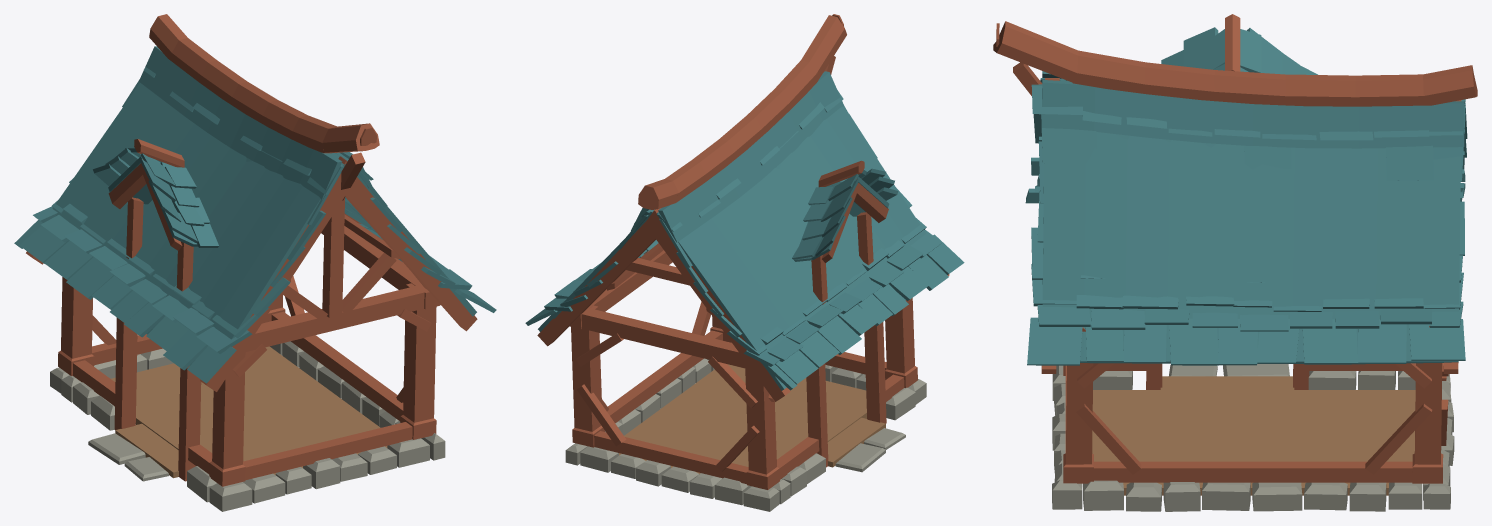
The model's file is shelter-roof.glb.
3 views of the same model, side by side, from view 1: azimuth 30°, elevation 25°; view 2: azimuth 150°, elevation 25°; view 3: azimuth 270°, elevation 25° (orthographic). The views are drawn at different scales.
Visible parts, largest first — view 1: roof_shingles, timber_frame, roof_timbers, floor, stone_footing; view 2: roof_shingles, timber_frame, roof_timbers, floor, stone_footing; view 3: roof_shingles, floor, timber_frame, roof_timbers, stone_footing.
Part boxes in pixels (x1,y1,x2,y2): roof_shingles: [14, 46, 496, 383]; timber_frame: [58, 197, 440, 486]; roof_timbers: [26, 14, 477, 391]; floor: [111, 346, 387, 478]; stone_footing: [50, 341, 445, 511]; roof_shingles: [525, 71, 964, 390]; timber_frame: [569, 212, 917, 489]; roof_timbers: [537, 14, 949, 401]; floor: [619, 364, 885, 473]; stone_footing: [565, 358, 926, 511]; roof_shingles: [1025, 27, 1467, 365]; floor: [1092, 376, 1415, 495]; timber_frame: [1063, 326, 1448, 483]; roof_timbers: [993, 14, 1477, 373]; stone_footing: [1052, 364, 1454, 511].
Size of the model in its own units: 5.43 by 6.52 by 6.66.
